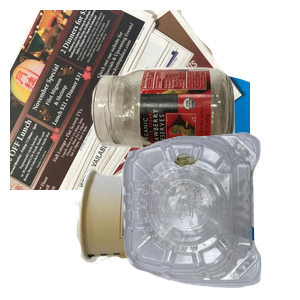glass: (89, 65, 300, 212)
paper: (10, 10, 250, 190)
plastic: (119, 130, 300, 300)
trash: (73, 164, 278, 300)
